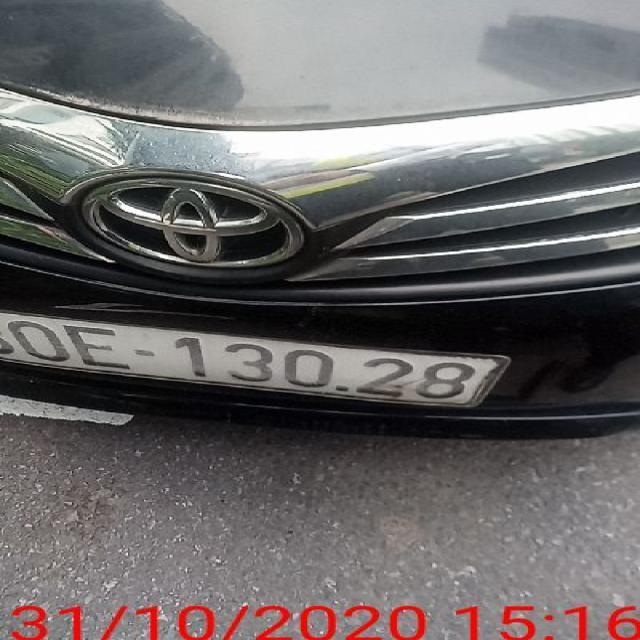bien_so_oto: (0, 308, 510, 413)
